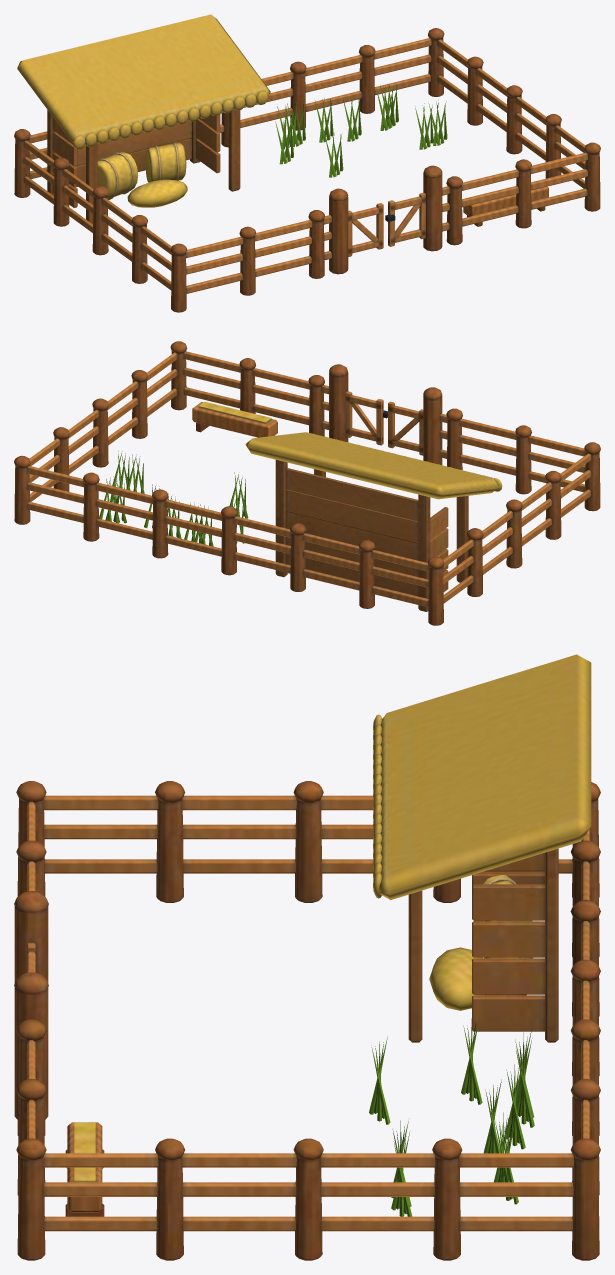
Rendered from cassowary_ranch.glb.
3 renders of one model, top to bottom at view 1: azimuth 30°, elevation 25°; view 2: azimuth 150°, elevation 25°; view 3: azimuth 270°, elevation 25°, orthographic. The views are drawn at different scales.
Parts seen in each view (by area): view 1: cassowary_ranch, gate1, gate0; view 2: cassowary_ranch, gate1, gate0; view 3: cassowary_ranch.
Part boxes in pixels (x1,y1,x2,y2): cassowary_ranch: (14,14,600,312); gate1: (385,192,425,246); gate0: (348,203,383,256); cassowary_ranch: (14,341,600,625); gate1: (345,391,387,445); gate0: (388,401,423,455); cassowary_ranch: (14,654,600,1260).
Size of the model in its own units: 3 by 0.9714 by 2.01.
1 material, 1 textured.
